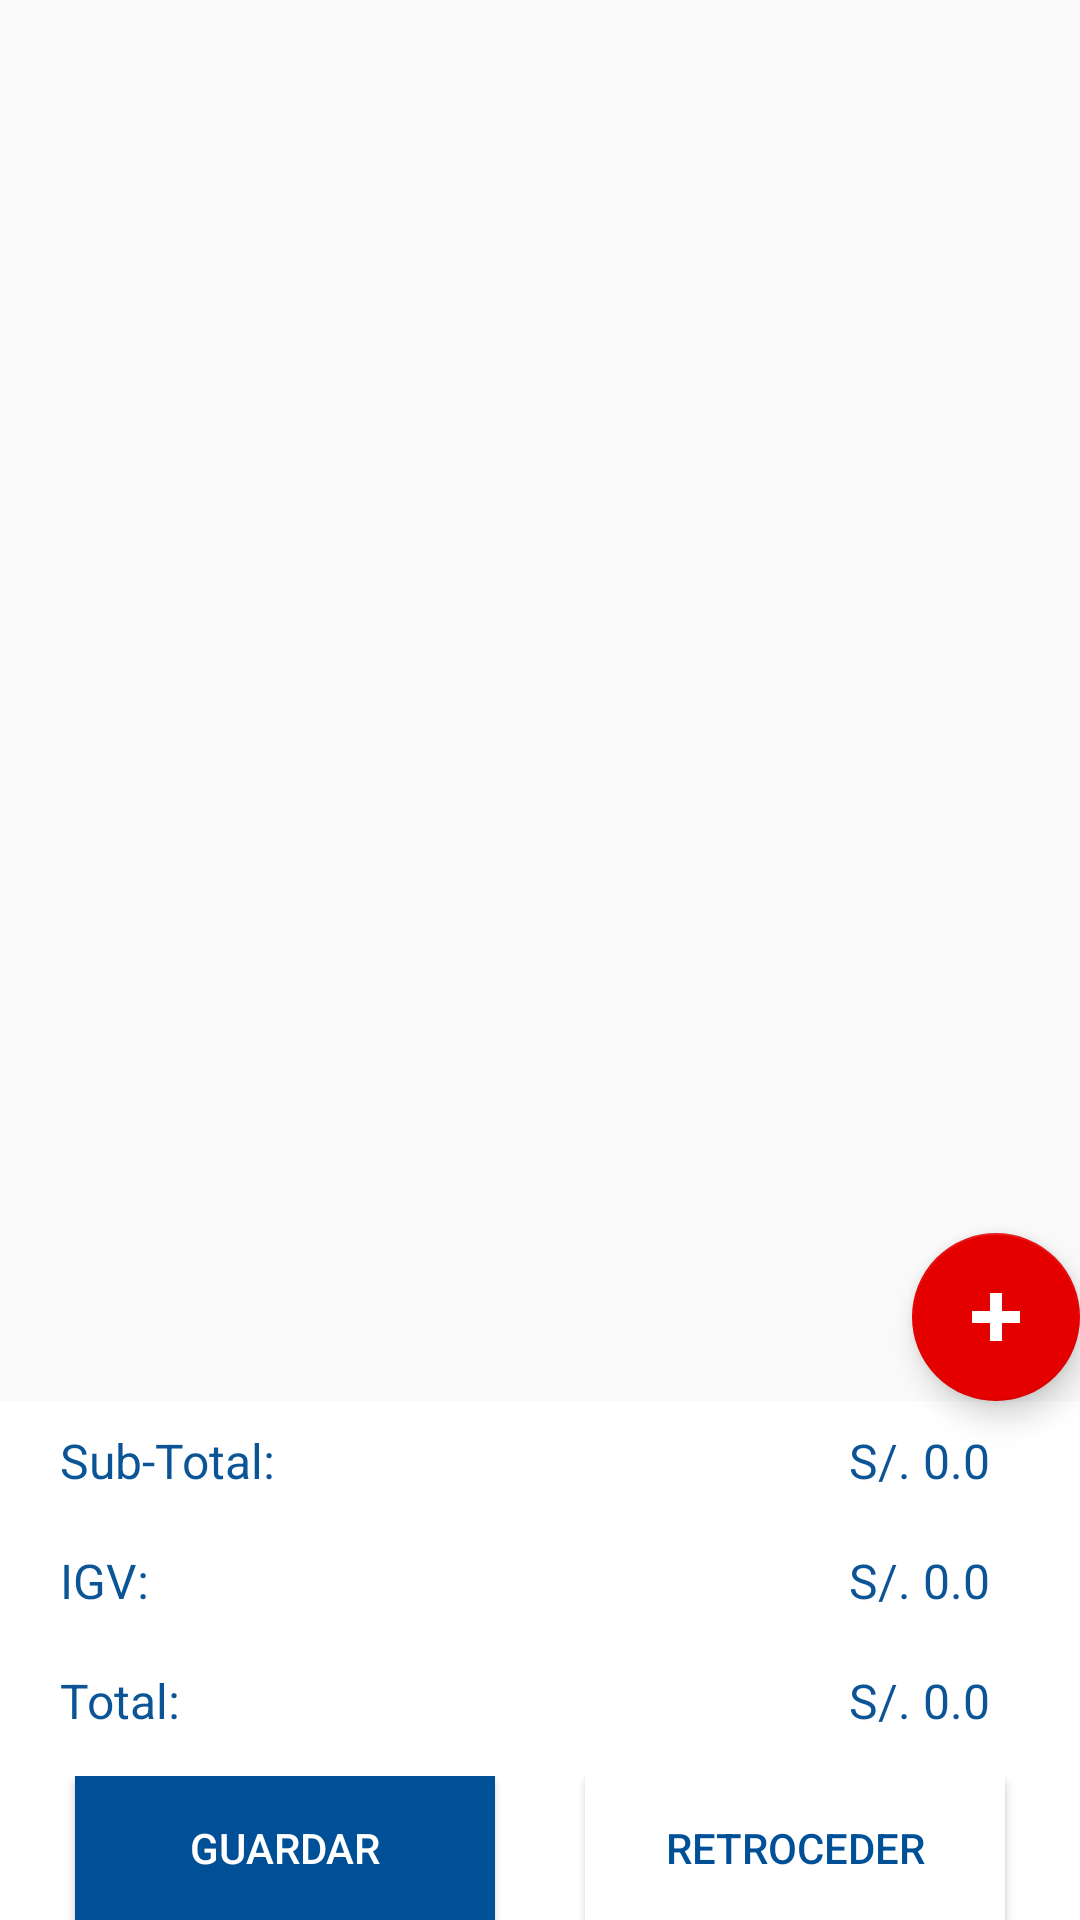

Point at icon controls on the screen. Image size 1080 × 1920, points as (x=x, y=y).
add: (x=996, y=1317)
